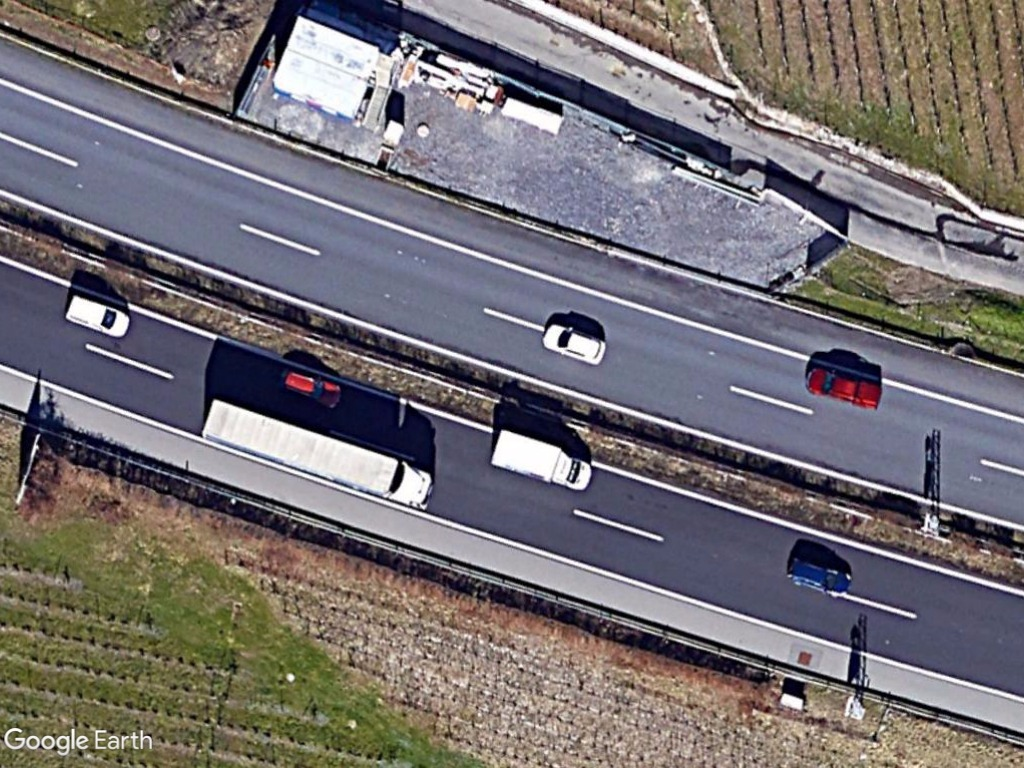car: (804, 360, 889, 414), (56, 286, 139, 341), (538, 314, 613, 370), (784, 547, 861, 599)
longvehicle: (198, 388, 442, 514)
truck: (484, 423, 597, 495)
